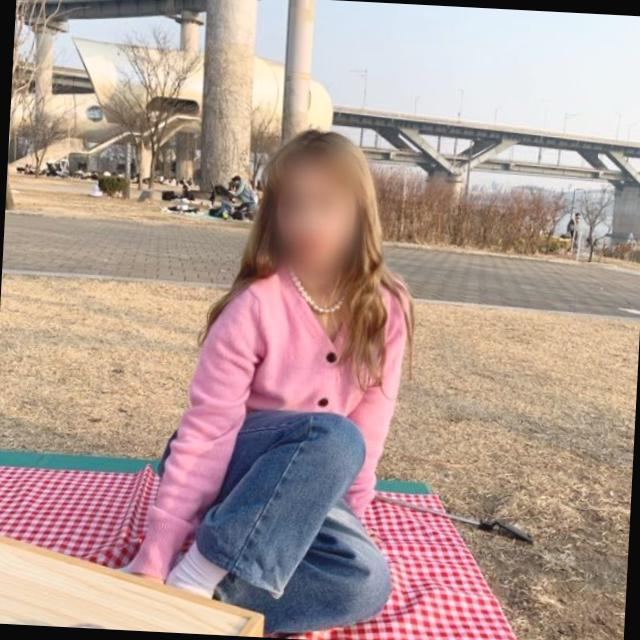cardigan: (122, 258, 412, 594)
denimpants: (154, 412, 403, 632)
